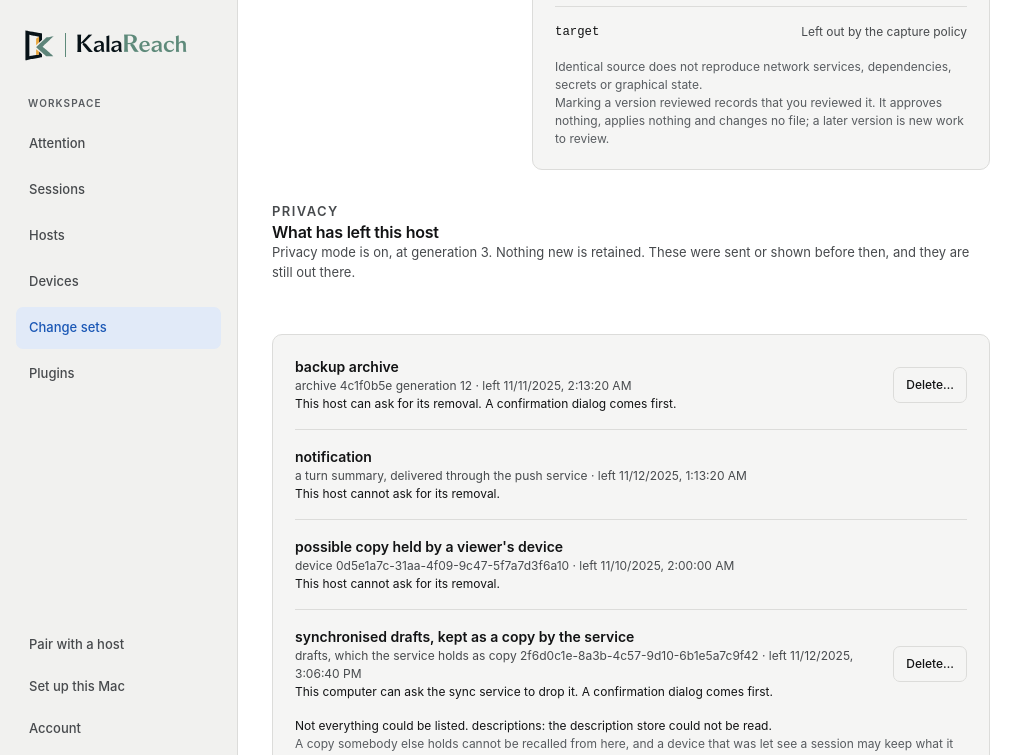
Test case: a copy the host can ask the removal of › says why when native code refuses, and sends nothing
(page scrolled)
Check: the number of elements with test id "left-copy" is 4, box [295,356,967,430]; [295,430,967,520]; [295,520,967,610]; [295,610,967,718]
Click the button with aria-label "Delete backup archive".
click(930, 385)  # box [893,367,967,403]
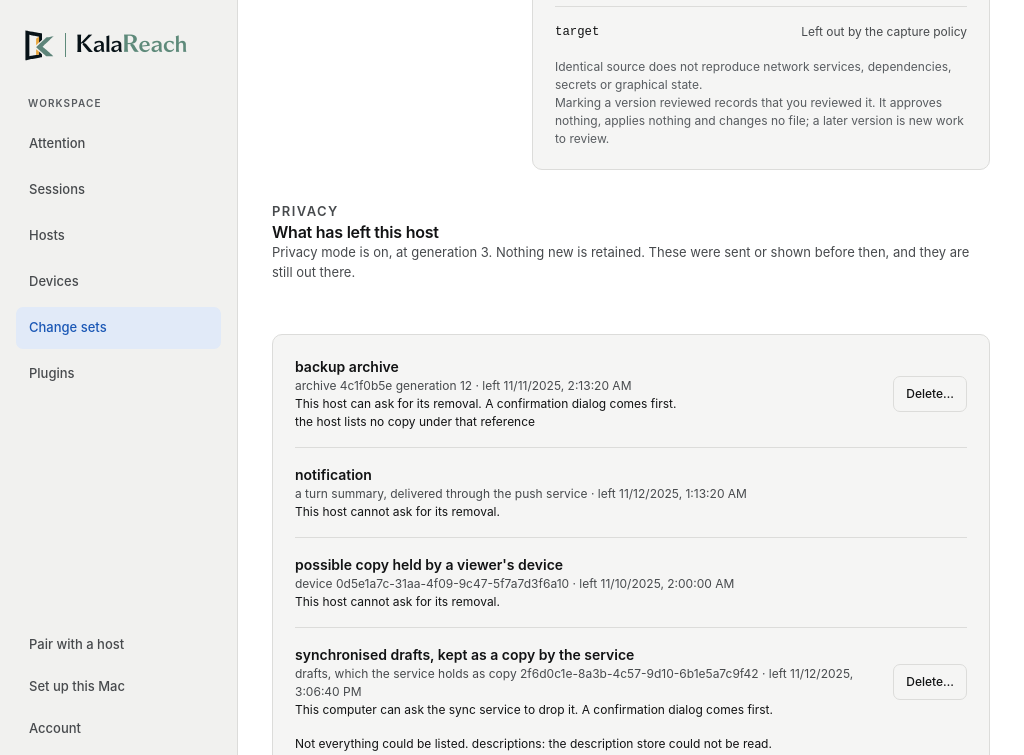
Check: the button "Delete…" in the row of "left 11/11/2025, 2:13:20 AM" is shown, box [893,376,967,412]
Check: the message reads "the host lists no copy under that reference", box [295,414,535,430]
